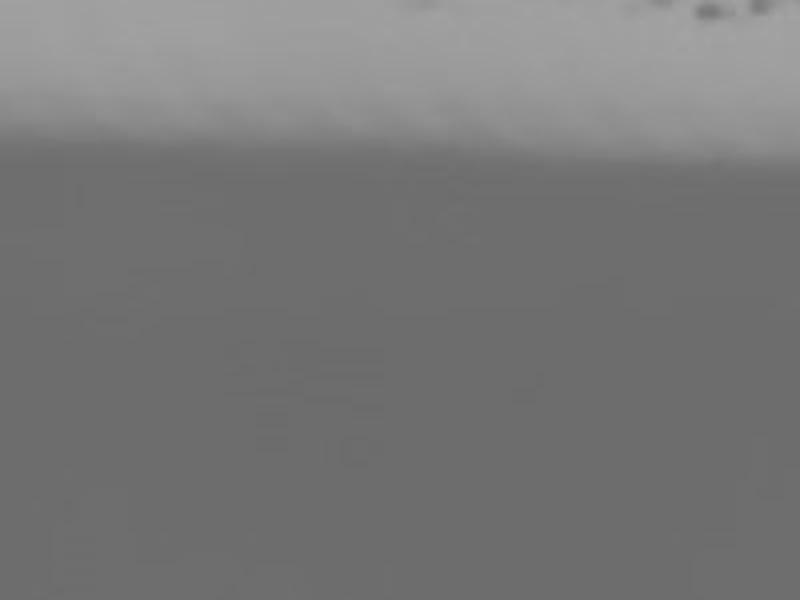defect: (694, 1, 726, 23), (747, 1, 774, 17), (655, 1, 675, 11)
